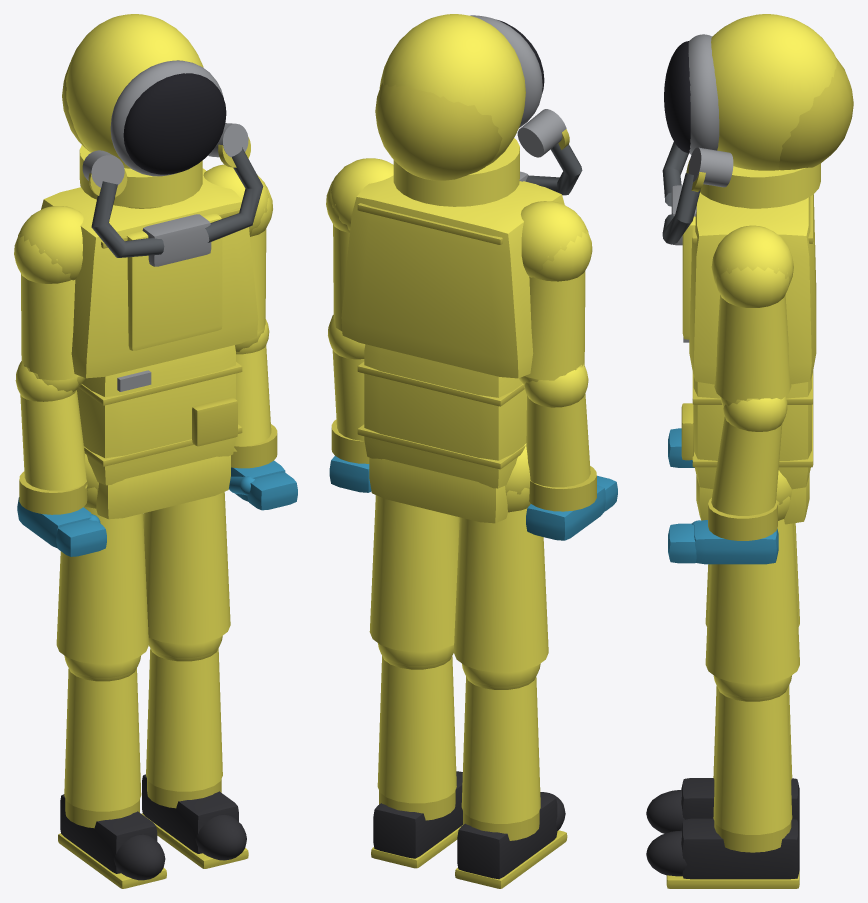
File: CH_hazmat_suit.fbx
3 renders of one model, left to right at view 1: azimuth 30°, elevation 25°; view 2: azimuth 150°, elevation 25°; view 3: azimuth 270°, elevation 25°, orthographic. The views are drawn at different scales.
Parts seen in each view (by area): view 1: CH_hazmat_suit; view 2: CH_hazmat_suit; view 3: CH_hazmat_suit.
Part boxes in pixels (x1,y1,x2,y2): CH_hazmat_suit: (14,14,297,888); CH_hazmat_suit: (326,14,617,888); CH_hazmat_suit: (646,14,853,888).
Bounding box in the file's own units: 0.5966 × 1.88 × 0.4214.
